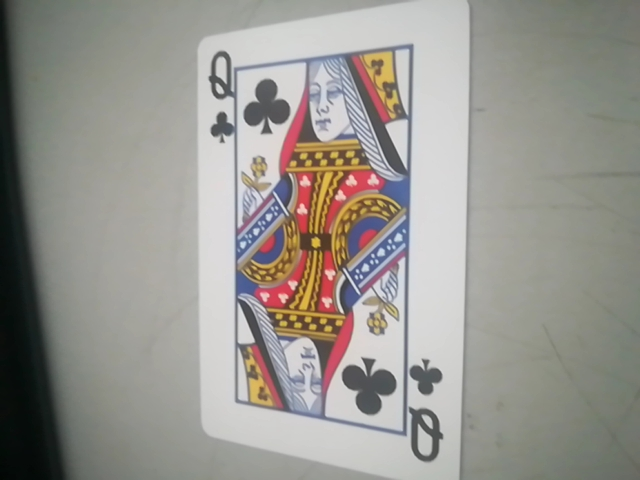mh q: (202, 4, 476, 480)
